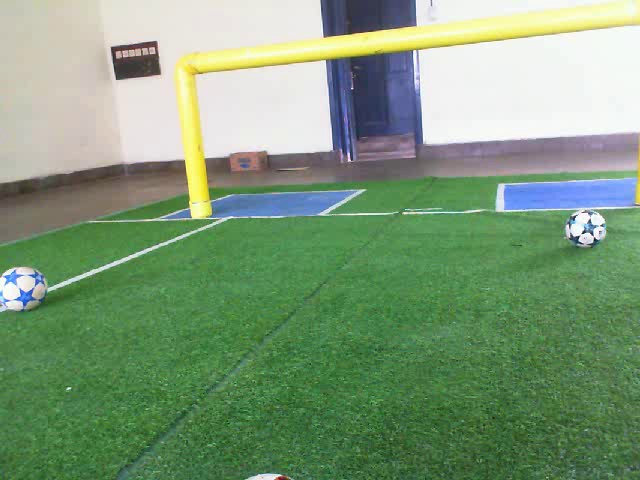ball: (1, 264, 50, 314), (562, 206, 609, 252)
